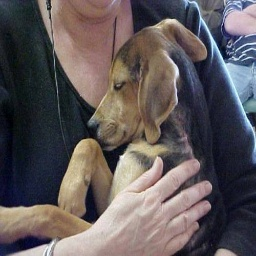dog: (49, 26, 223, 256)
